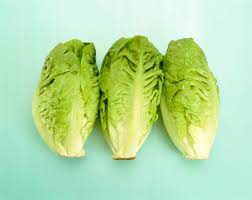lettuce: (97, 32, 162, 161), (31, 40, 98, 161), (162, 34, 215, 162)
